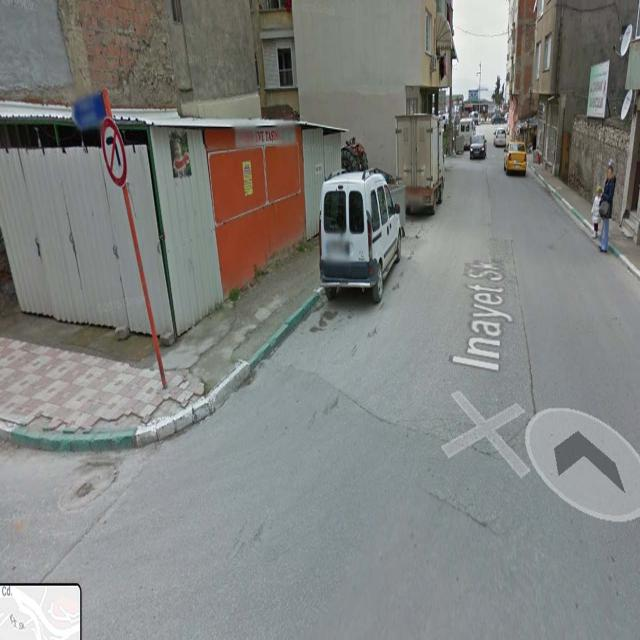soladonulmez: (101, 116, 127, 186)
